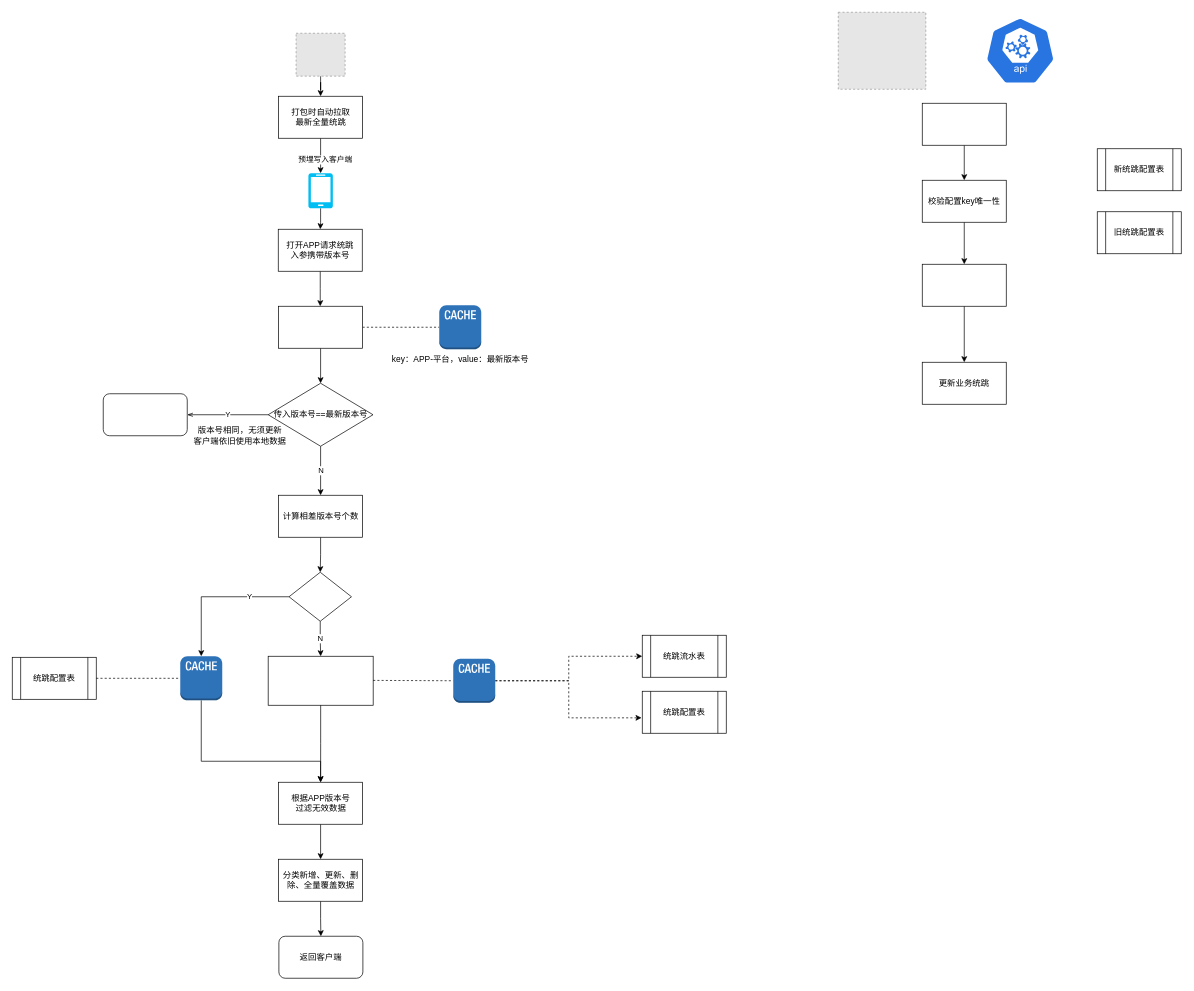
The diagram is 1194 pixels wide and 991 high, and some of its shapes have lost their labels. Grey dashed boxes stand in for pictures. Each missing label, with the centre of its shape:
保存统跳配置: pixel 964 124
校验入参合法性: pixel 964 285
根据APP、平台 查询最新版本号: pixel 320 327
根据传入版本号、最新版本号查询相差的版本变更记录: pixel 320 680
流水关联的统跳原始数据: pixel 474 680
相差版本个数 超过上限: pixel 319 596
结束: pixel 145 414
统跳全量有效数据: pixel 201 678
